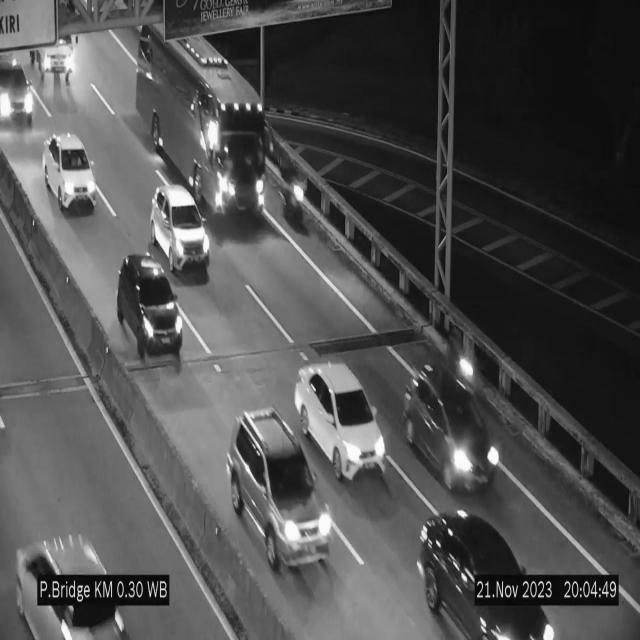Bus: (137, 18, 266, 228), (446, 330, 478, 398)
Car: (415, 498, 560, 640), (228, 409, 332, 572), (0, 522, 143, 640), (402, 364, 500, 496), (295, 362, 387, 479), (117, 254, 182, 369), (150, 185, 210, 275), (43, 132, 96, 214), (0, 50, 43, 138)
Motorcycle: (282, 162, 308, 240)
